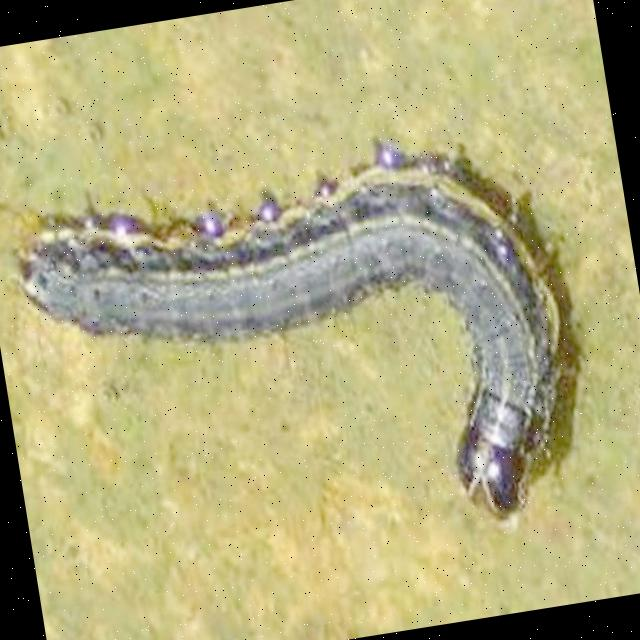worm: (2, 113, 609, 600)
